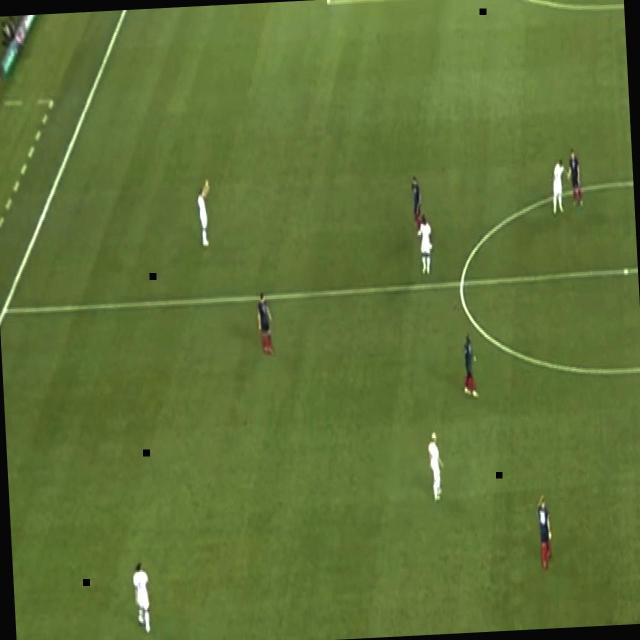player-white: (128, 554, 154, 640), (532, 488, 554, 574), (194, 173, 216, 253), (425, 429, 447, 508), (459, 327, 481, 401), (252, 288, 275, 358), (564, 143, 586, 214), (549, 152, 571, 218), (415, 213, 435, 279), (407, 172, 425, 233)
